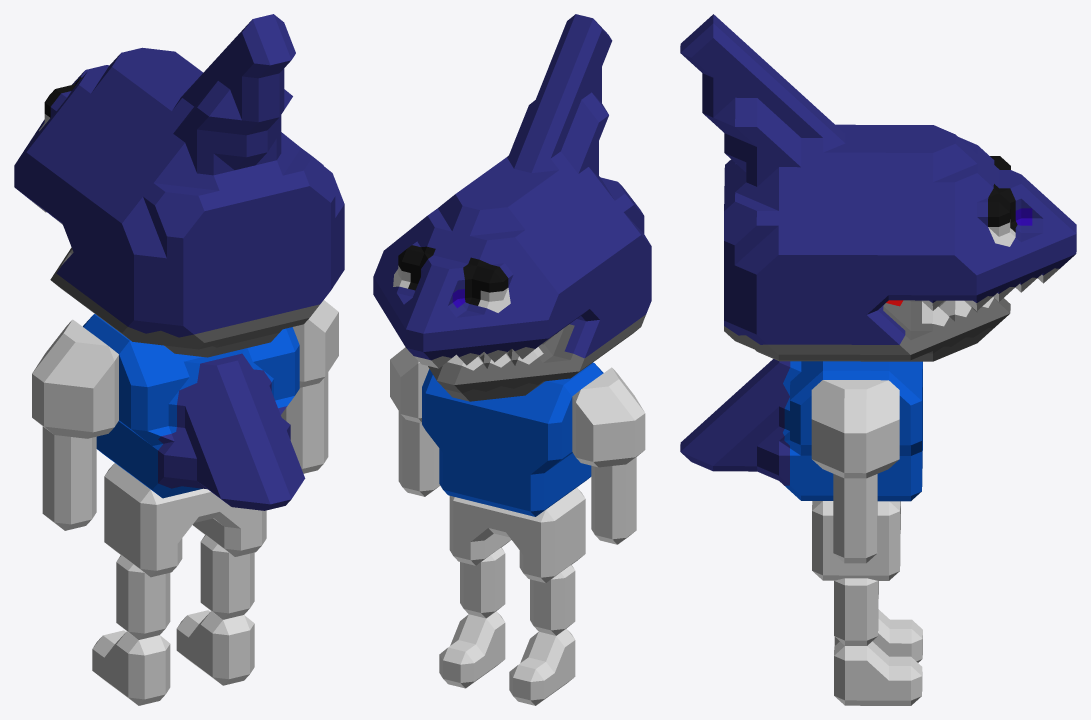
The model's file is Shark_res_fbx.fbx.
The picture shows the model from 3 angles, left to right: view 1: azimuth 30°, elevation 25°; view 2: azimuth 150°, elevation 25°; view 3: azimuth 270°, elevation 25°; orthographic projection. The views are drawn at different scales.
Visible parts, largest first — view 1: itmyShark0604, itmyShark0604.012, itmyShark0604.007, itmyShark0604.014, itmyShark0604.002, itmyShark0604.001, itmyShark0604.013, itmyShark0604.009, itmyShark0604.006, itmyShark0604.005, itmyShark0604.011, itmyShark0604.008 (+3 smaller); view 2: itmyShark0604, itmyShark0604.012, itmyShark0604.007, itmyShark0604.014, itmyShark0604.002, itmyShark0604.001, itmyShark0604.013, itmyShark0604.009, itmyShark0604.008, itmyShark0604.011, itmyShark0604.006, itmyShark0604.005 (+3 smaller); view 3: itmyShark0604, itmyShark0604.012, itmyShark0604.013, itmyShark0604.001, itmyShark0604.007, itmyShark0604.005, itmyShark0604.008, itmyShark0604.010, itmyShark0604.002, itmyShark0604.003.
Part boxes in pixels (bbox=[...]): itmyShark0604: bbox=[14, 14, 344, 357]; itmyShark0604.012: bbox=[83, 314, 305, 510]; itmyShark0604.007: bbox=[104, 463, 266, 577]; itmyShark0604.014: bbox=[32, 319, 118, 438]; itmyShark0604.002: bbox=[92, 630, 170, 705]; itmyShark0604.001: bbox=[176, 610, 254, 685]; itmyShark0604.013: bbox=[293, 300, 338, 387]; itmyShark0604.009: bbox=[42, 469, 96, 530]; itmyShark0604.006: bbox=[116, 555, 170, 616]; itmyShark0604.005: bbox=[200, 535, 254, 596]; itmyShark0604.011: bbox=[42, 426, 96, 480]; itmyShark0604.008: bbox=[289, 413, 328, 473]; itmyShark0604: bbox=[373, 14, 651, 401]; itmyShark0604.012: bbox=[422, 362, 603, 516]; itmyShark0604.007: bbox=[449, 487, 585, 582]; itmyShark0604.014: bbox=[572, 367, 645, 467]; itmyShark0604.002: bbox=[509, 629, 575, 705]; itmyShark0604.001: bbox=[439, 611, 505, 688]; itmyShark0604.013: bbox=[390, 347, 429, 423]; itmyShark0604.009: bbox=[591, 493, 636, 544]; itmyShark0604.008: bbox=[398, 445, 439, 496]; itmyShark0604.011: bbox=[591, 457, 636, 502]; itmyShark0604.006: bbox=[530, 565, 575, 615]; itmyShark0604.005: bbox=[460, 547, 505, 594]; itmyShark0604: bbox=[680, 14, 1076, 361]; itmyShark0604.012: bbox=[680, 359, 922, 501]; itmyShark0604.013: bbox=[811, 380, 899, 478]; itmyShark0604.001: bbox=[834, 641, 922, 705]; itmyShark0604.007: bbox=[812, 501, 900, 580]; itmyShark0604.005: bbox=[834, 578, 878, 625]; itmyShark0604.008: bbox=[833, 513, 877, 563]; itmyShark0604.010: bbox=[833, 474, 877, 518]; itmyShark0604.002: bbox=[834, 609, 922, 662]; itmyShark0604.003: bbox=[834, 611, 878, 645].
Bounding box in the file's own units: 1.4 × 3.33 × 1.8.
